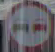No overtake: (3, 3, 54, 50)
